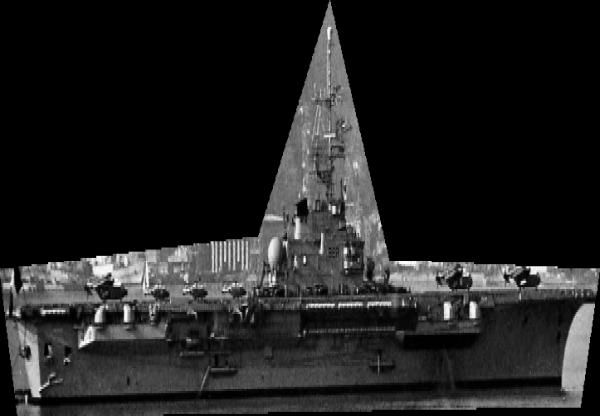Aircraft Carrier: (0, 1, 600, 416)
